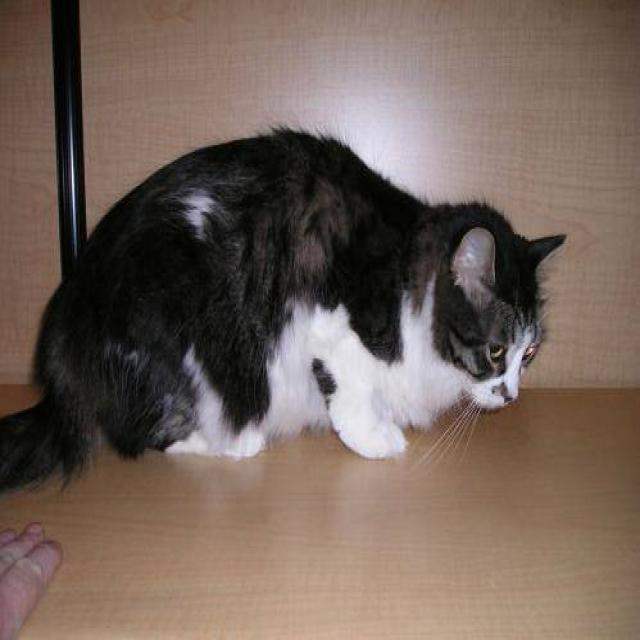cat: (0, 123, 567, 495)
